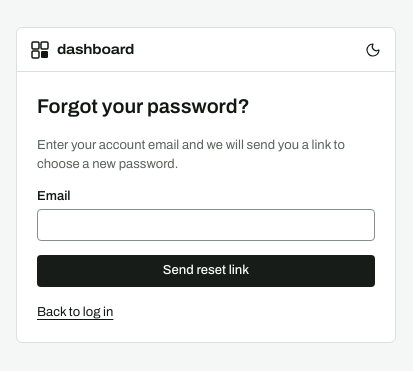
it: ForgotPasswordPage › shows an inline error and makes no request for an invalid email
This screenshot has width=413, height=371.
Type "ada@example" into the field labelled "Email" at (206, 225), box [37,209,375,241]
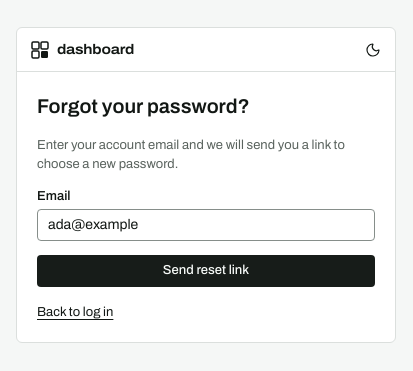
Click the button "Send reset link" at (206, 271), box [37,255,375,287]
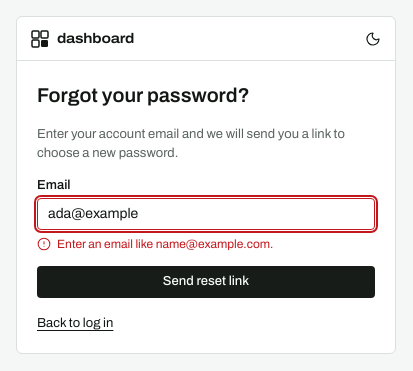
Check: the text "Enter an email like name@example.com." is shown, box [37,237,273,251]
